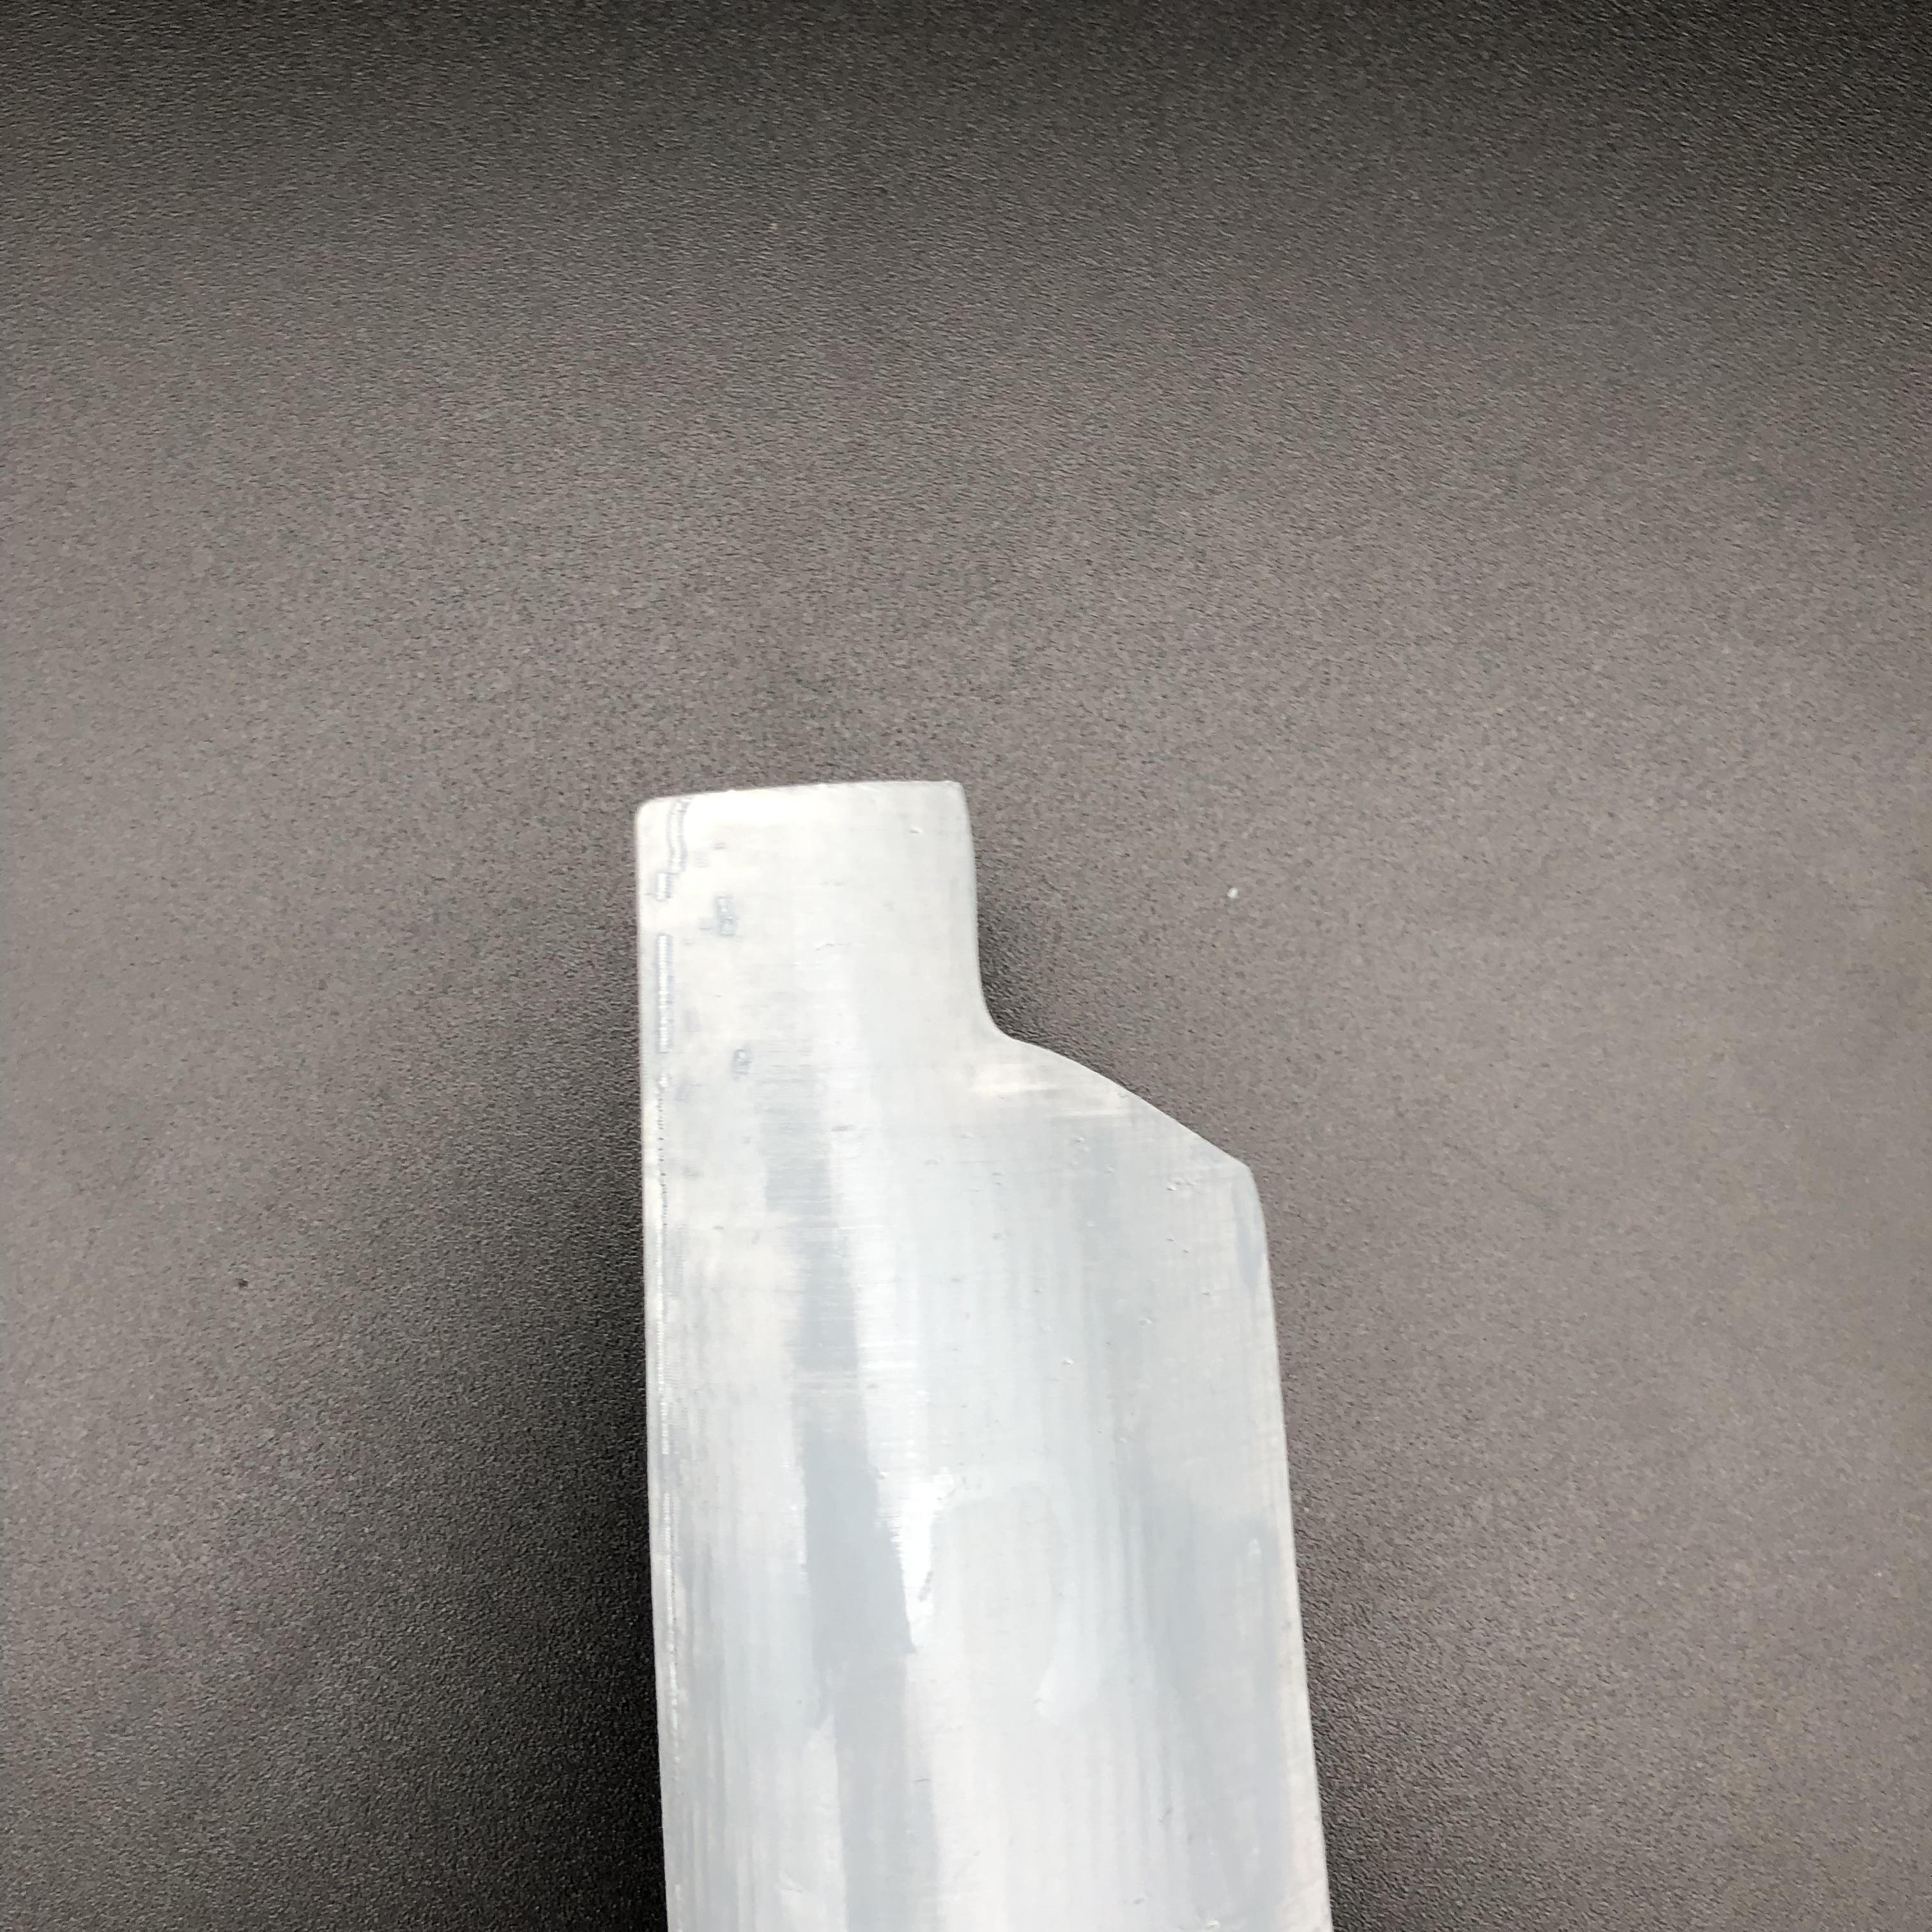fracture: (876, 800, 1247, 1189)
